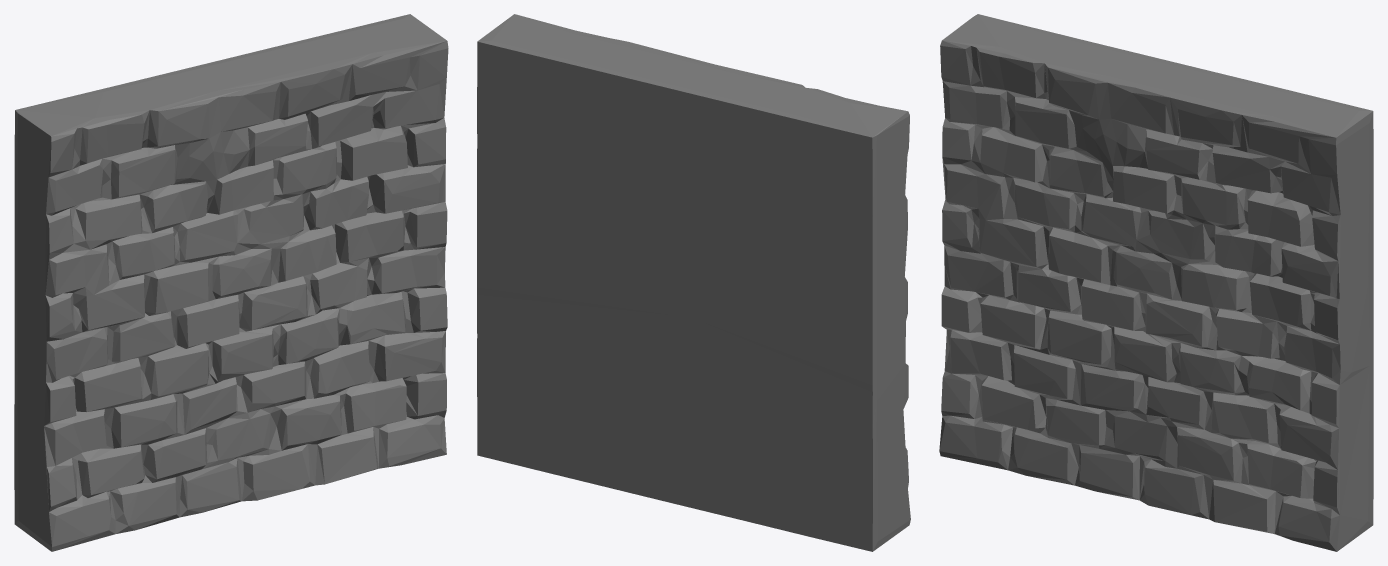
Rendered from modular_wall_3x3m_a.FBX.
The picture shows the model from 3 angles, left to right: view 1: azimuth 30°, elevation 25°; view 2: azimuth 150°, elevation 25°; view 3: azimuth 330°, elevation 25°; orthographic projection.
Parts seen in each view (by area): view 1: modular_wall_3x3m_a; view 2: modular_wall_3x3m_a; view 3: modular_wall_3x3m_a.
Part boxes in pixels (x1=…): modular_wall_3x3m_a: x1=14, y1=14, x2=448, y2=551; modular_wall_3x3m_a: x1=477, y1=14, x2=910, y2=551; modular_wall_3x3m_a: x1=939, y1=14, x2=1373, y2=551.
Bounding box in the file's own units: 3.01 × 3 × 0.4963.
